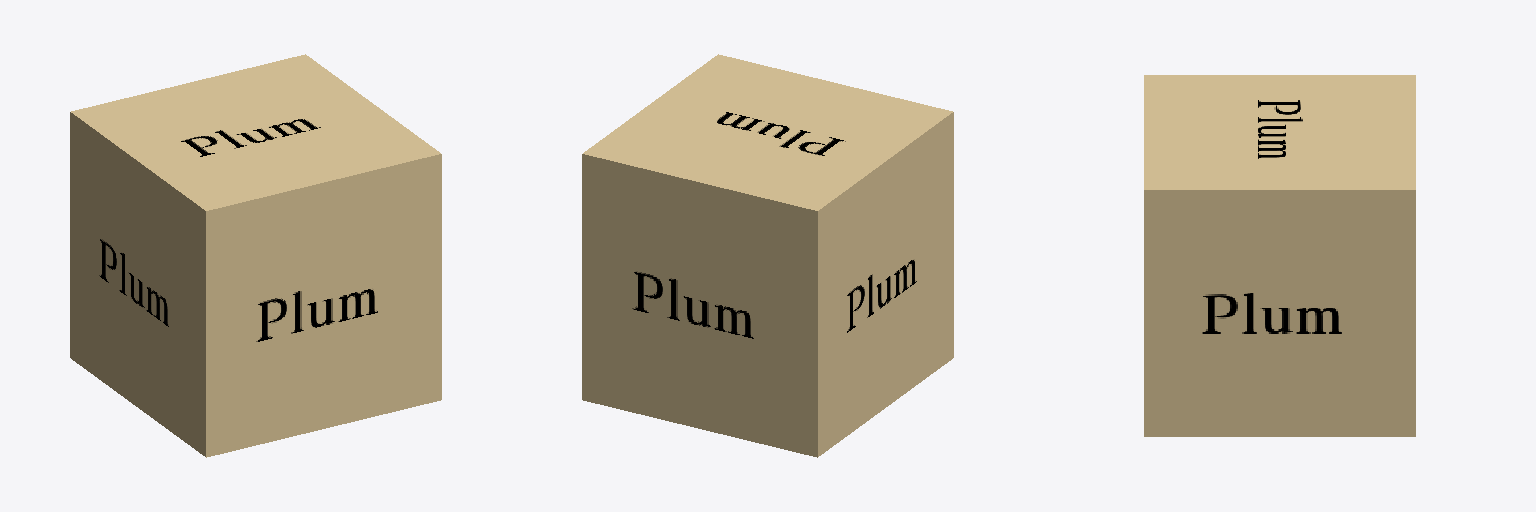
3 views of the same model, side by side, from view 1: azimuth 30°, elevation 25°; view 2: azimuth 150°, elevation 25°; view 3: azimuth 270°, elevation 25° (orthographic).
Visible parts, largest first — view 1: Cube; view 2: Cube; view 3: Cube.
Boxes of the visible parts, box(x1,y1,x2,y2) form: Cube: box(70, 54, 441, 457); Cube: box(582, 54, 953, 457); Cube: box(1144, 75, 1415, 436).
Size of the model in its own units: 0.6 by 0.6 by 0.6.
1 materials, 1 textured.